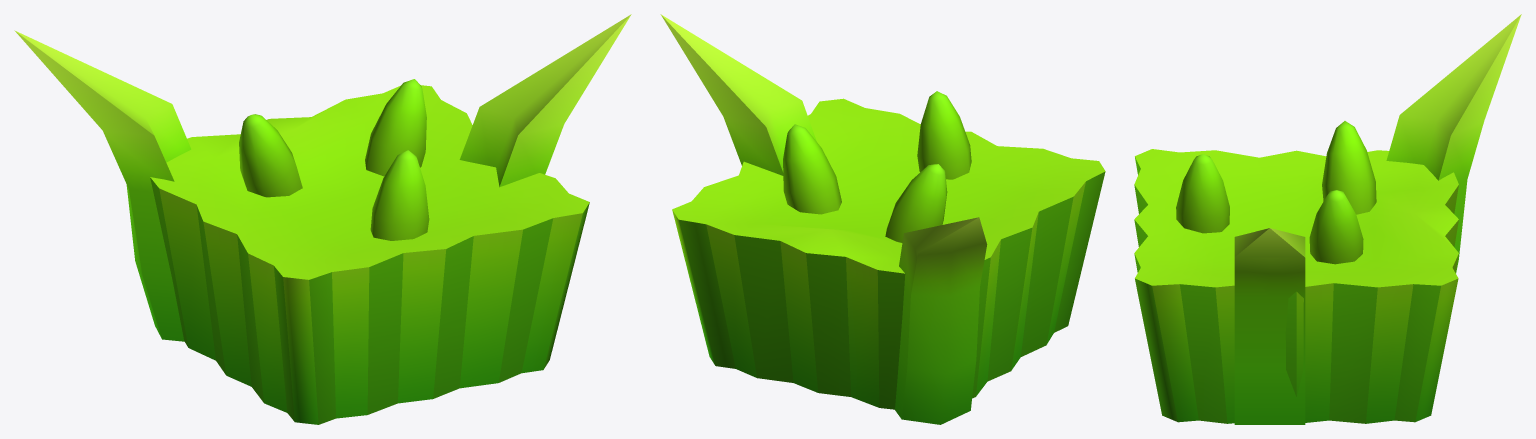
The model's file is Farm_Crop_Corn_Step_02.fbx.
3 views of the same model, side by side, from view 1: azimuth 30°, elevation 25°; view 2: azimuth 150°, elevation 25°; view 3: azimuth 270°, elevation 25° (orthographic). The views are drawn at different scales.
Parts seen in each view (by area): view 1: Farm_Crop_Corn_Step_02; view 2: Farm_Crop_Corn_Step_02; view 3: Farm_Crop_Corn_Step_02.
Part boxes in pixels (<box>): Farm_Crop_Corn_Step_02: <box>14,14,631,424</box>; Farm_Crop_Corn_Step_02: <box>660,14,1105,424</box>; Farm_Crop_Corn_Step_02: <box>1134,14,1521,424</box>.
Size of the model in its own units: 312 by 175 by 239.
